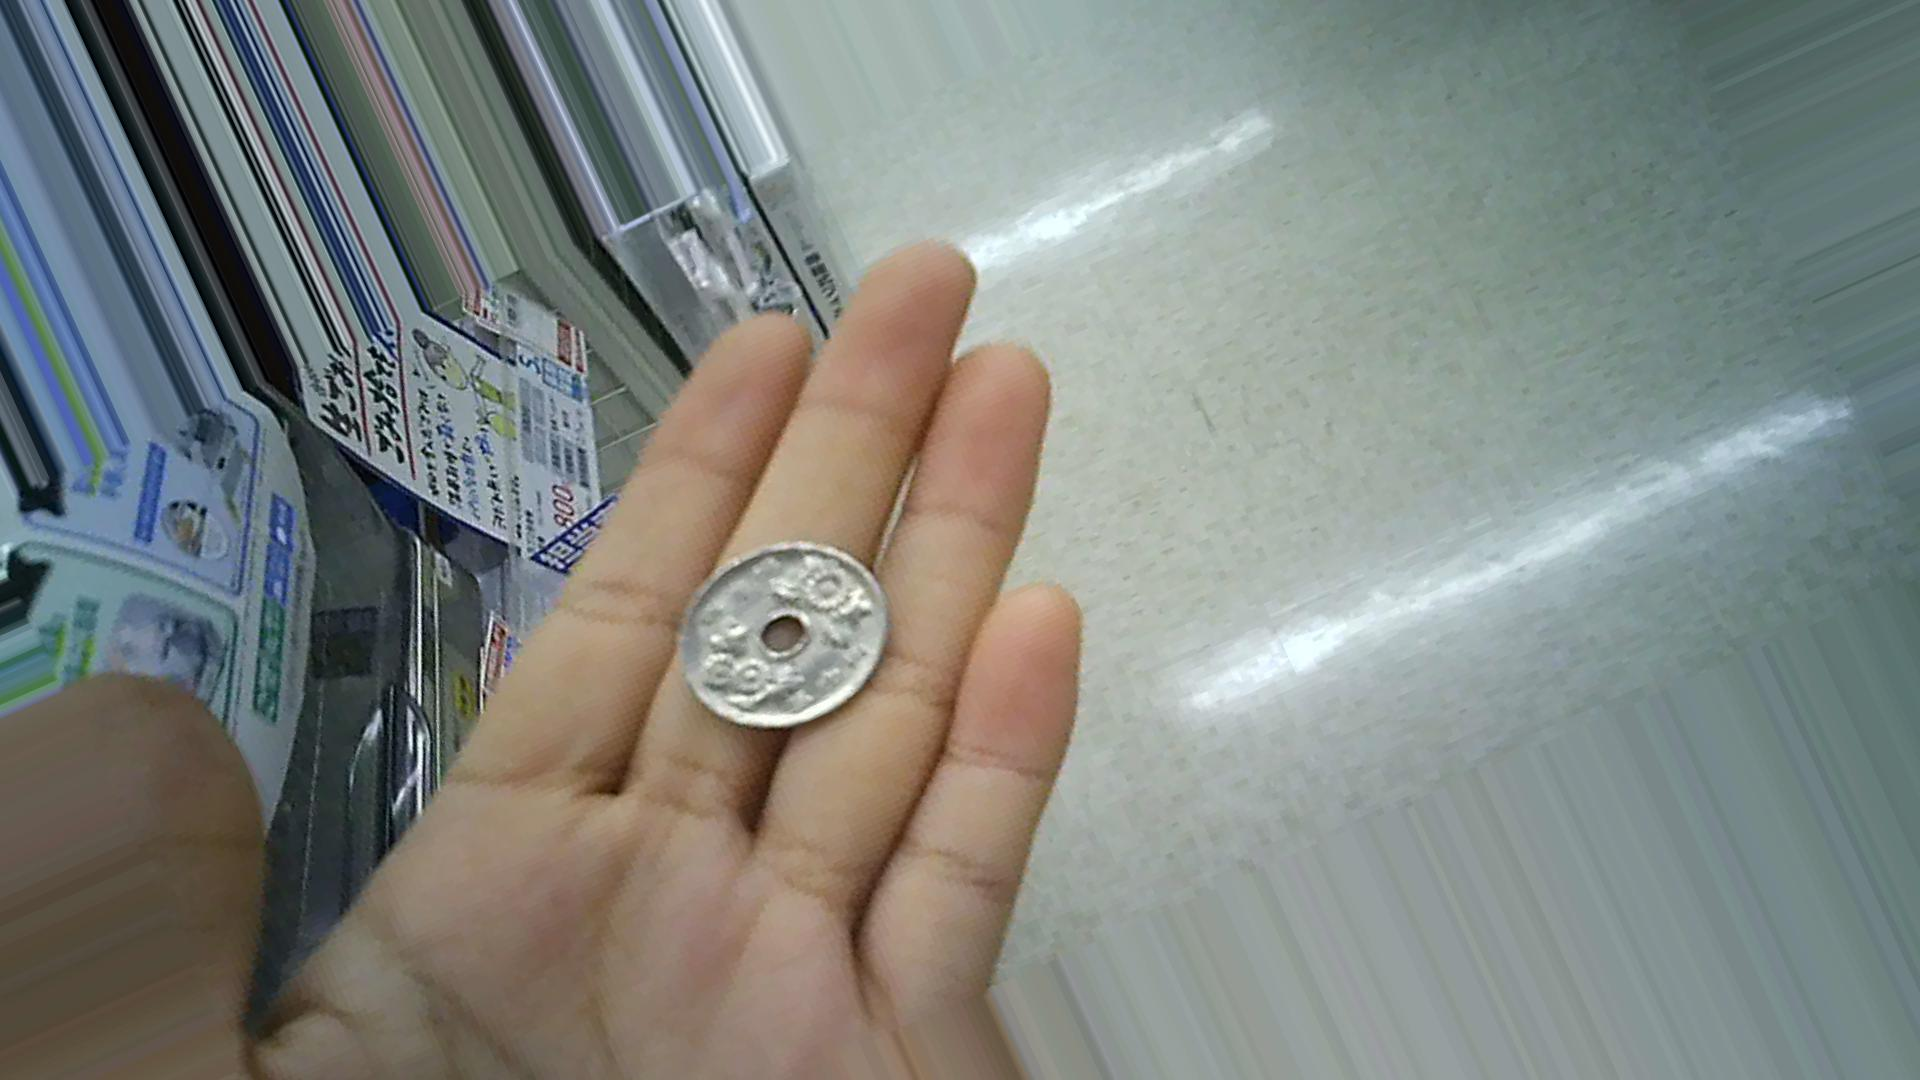50 Yen: (651, 538, 877, 723)
